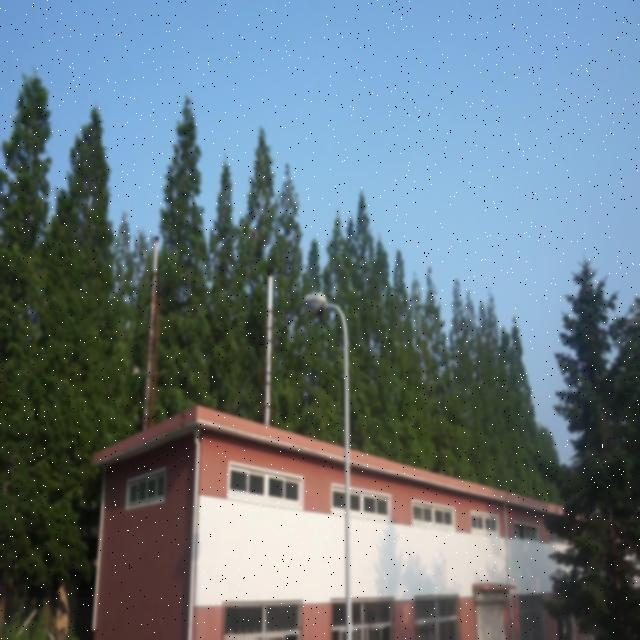UAV: (249, 226, 258, 240)
